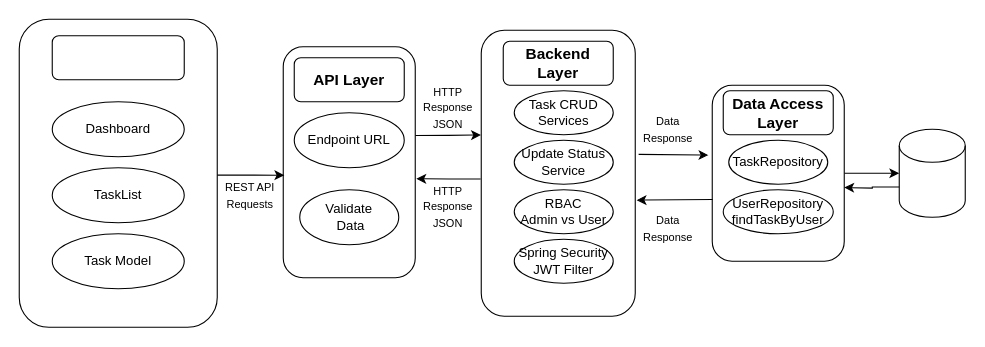
The diagram is 985 pixels wide and 347 high, and some of its shapes have lost their labels. The centre of each missing label's shape, as x and y in pixels:
Database MySQL: point 931,172
Frontend: point 117,57
